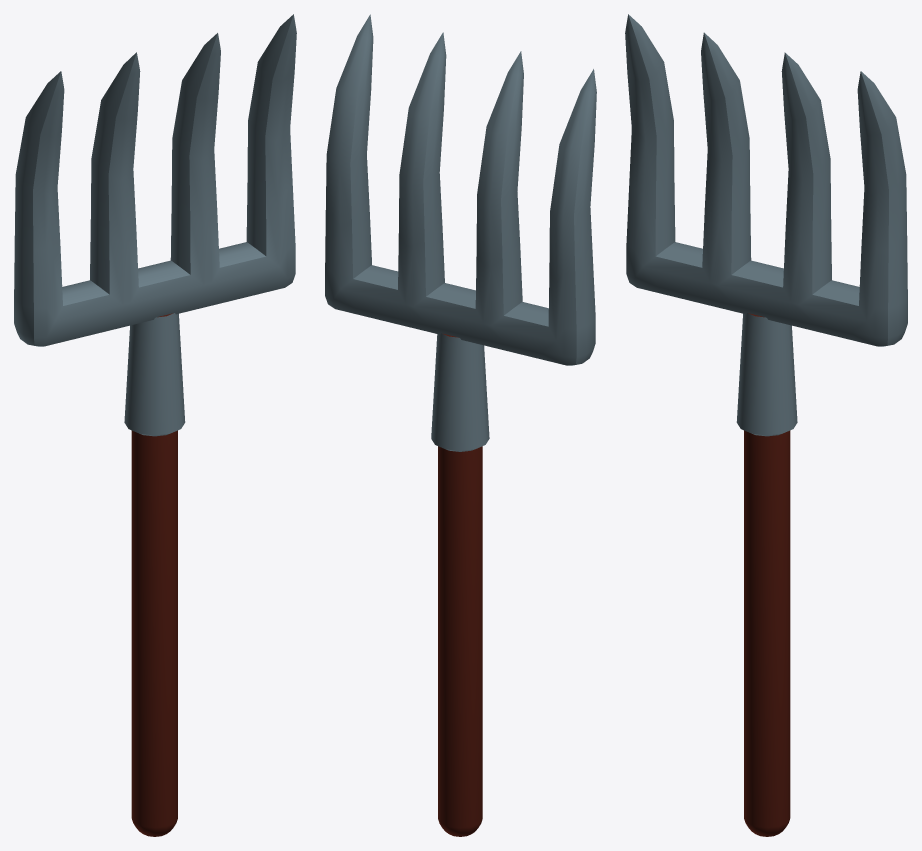
The model's file is pitchfork.obj.
3 views of the same model, side by side, from view 1: azimuth 30°, elevation 25°; view 2: azimuth 150°, elevation 25°; view 3: azimuth 330°, elevation 25° (orthographic). The views are drawn at different scales.
Visible parts, largest first — view 1: pitchfork_Cylinder.063; view 2: pitchfork_Cylinder.063; view 3: pitchfork_Cylinder.063.
Part boxes in pixels (box(x1,y1,x2,y2)): pitchfork_Cylinder.063: box(14, 14, 296, 836); pitchfork_Cylinder.063: box(325, 14, 596, 836); pitchfork_Cylinder.063: box(625, 14, 907, 836).
Bounding box in the file's own units: 0.7133 × 2.03 × 0.1733.
